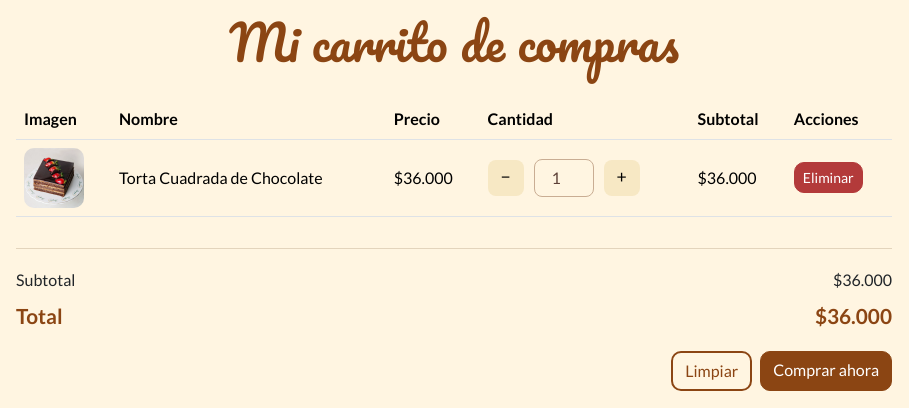
Test: Página Carrito › elimina un producto y vuelve al estado vacío
Click the button "Eliminar": point(828, 178) x1=794 y1=162 x2=863 y2=193
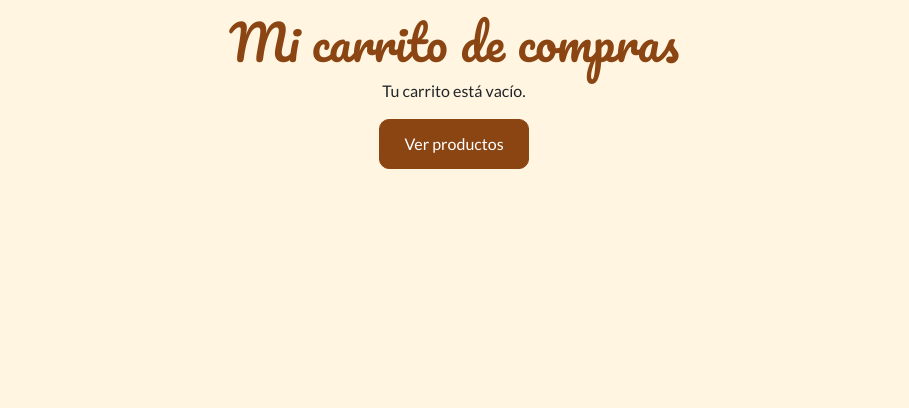
Check: the text "Tu carrito está vacío." is shown, box x1=382 y1=81 x2=526 y2=100
